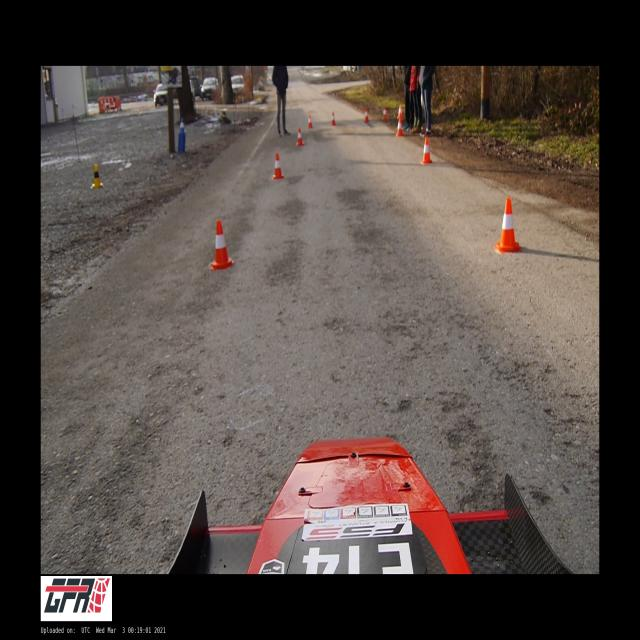blue_cone: (180, 117, 186, 133)
orange_cone: (493, 198, 522, 252), (210, 220, 234, 270), (421, 137, 433, 164), (272, 154, 284, 179), (296, 128, 304, 146), (396, 117, 403, 136), (382, 106, 388, 120), (364, 109, 369, 122), (398, 105, 403, 118), (308, 116, 313, 128), (331, 113, 336, 125)
yellow_cone: (91, 163, 102, 188)
